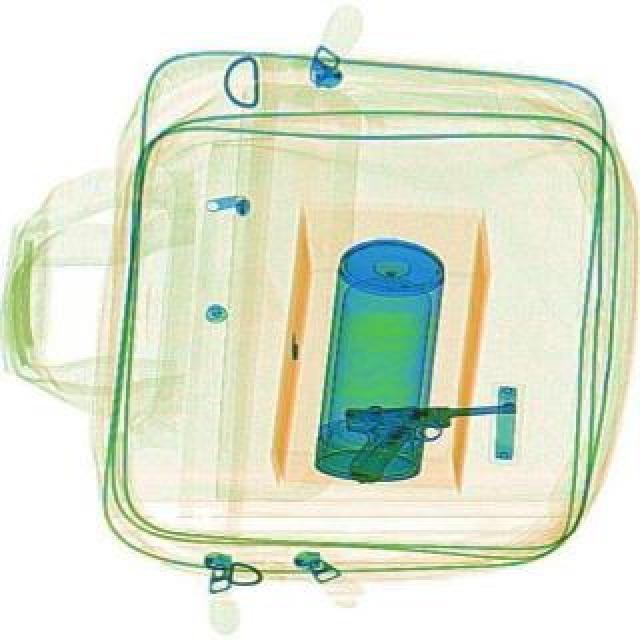gun: (342, 398, 518, 482)
